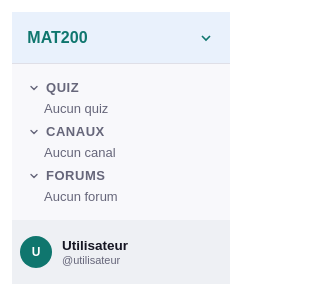
it: CourseMenu › menu contextuel du sélecteur › non-admin : seul « Quitter le cours », avec l’id du cours sélectionné
Right-click the button "MAT200": (121, 38) x1=12 y1=12 x2=230 y2=63
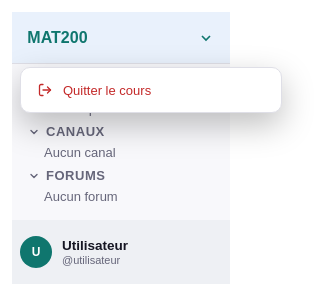
Click the menu item "Quitter le cours": (151, 90) x1=27 y1=74 x2=275 y2=106
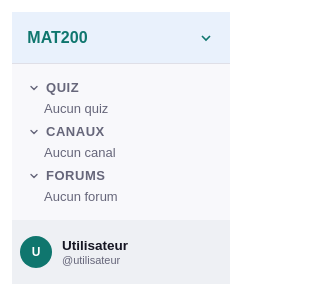
Check: the menu is gone
